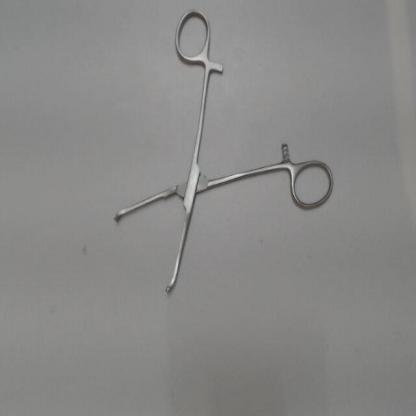Allis Tissue Forceps: (101, 2, 342, 309)
